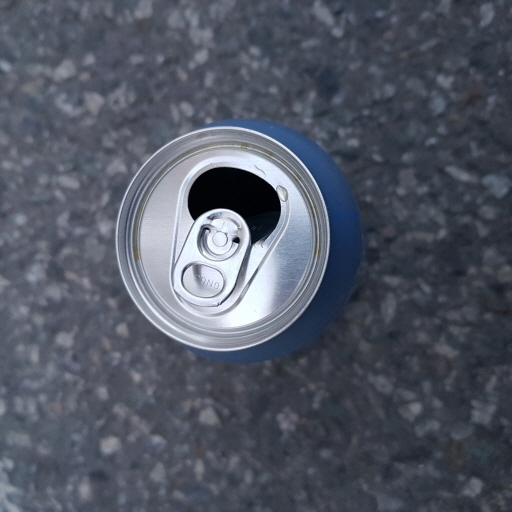Metal_0: (114, 117, 365, 366)
